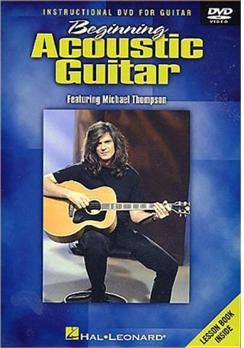guitar: (43, 178, 190, 243)
